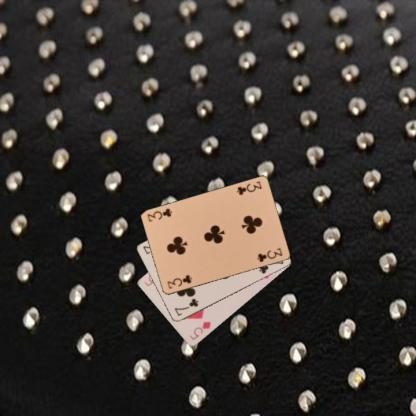3c: (234, 178, 263, 196), (165, 272, 193, 290)
5d: (187, 318, 213, 341)
7c: (172, 296, 199, 318)
